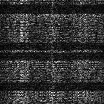wifi: (1, 13, 104, 43), (1, 60, 104, 81), (1, 91, 104, 104), (1, 1, 104, 4), (1, 50, 104, 52)
